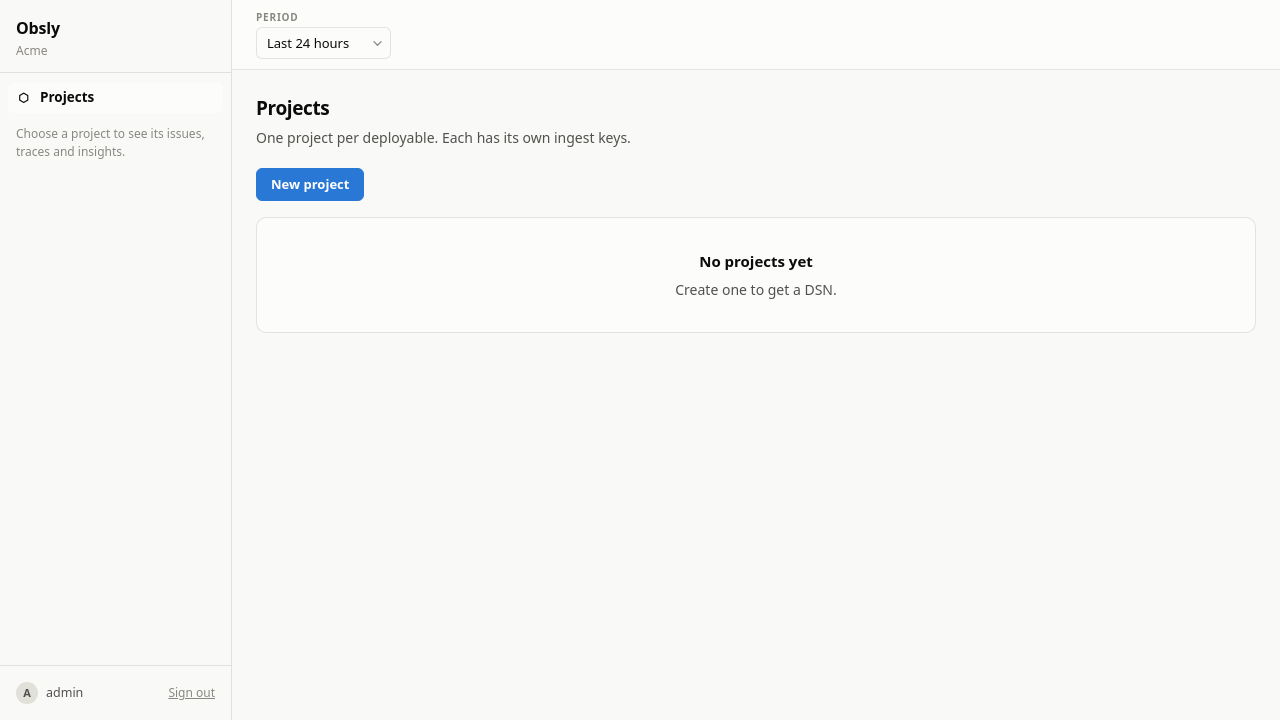
Projects page › derives a slug from the project name
Click the button "New project" at (310, 184), box [256,168,364,201]
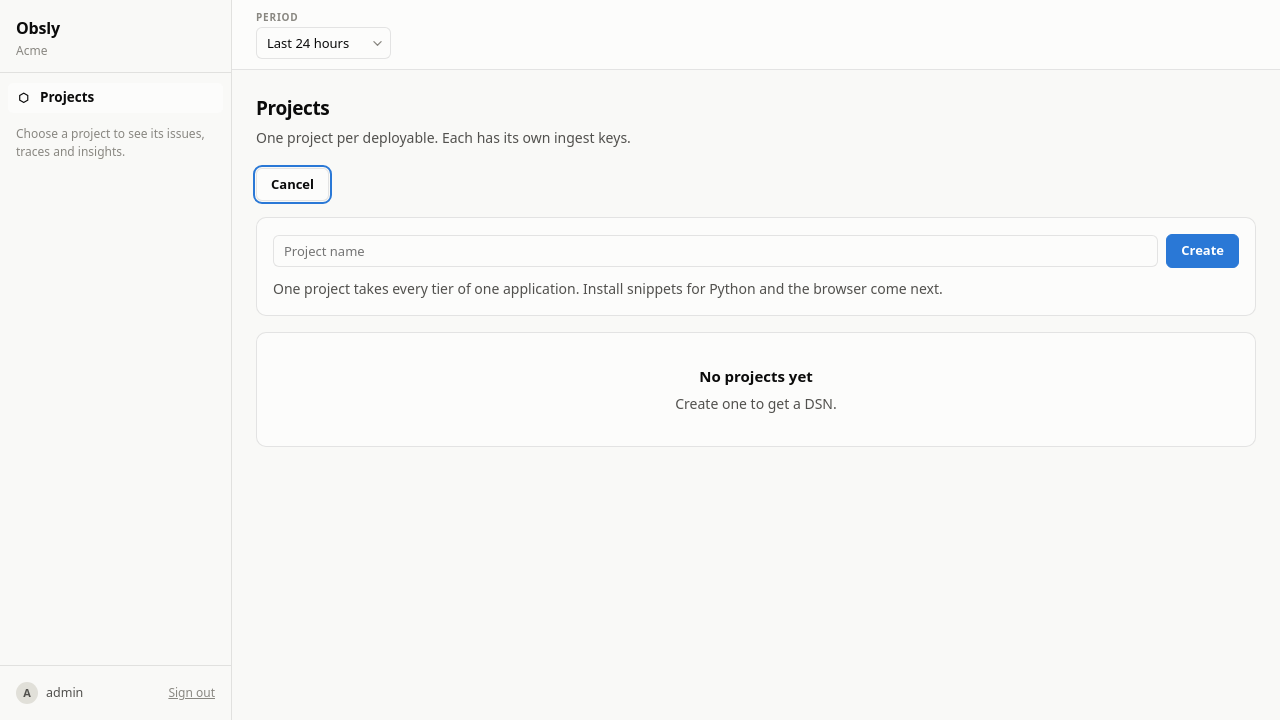
Type "Checkout API!!" into the field labelled "Project name" at (716, 251), box [273,235,1158,267]
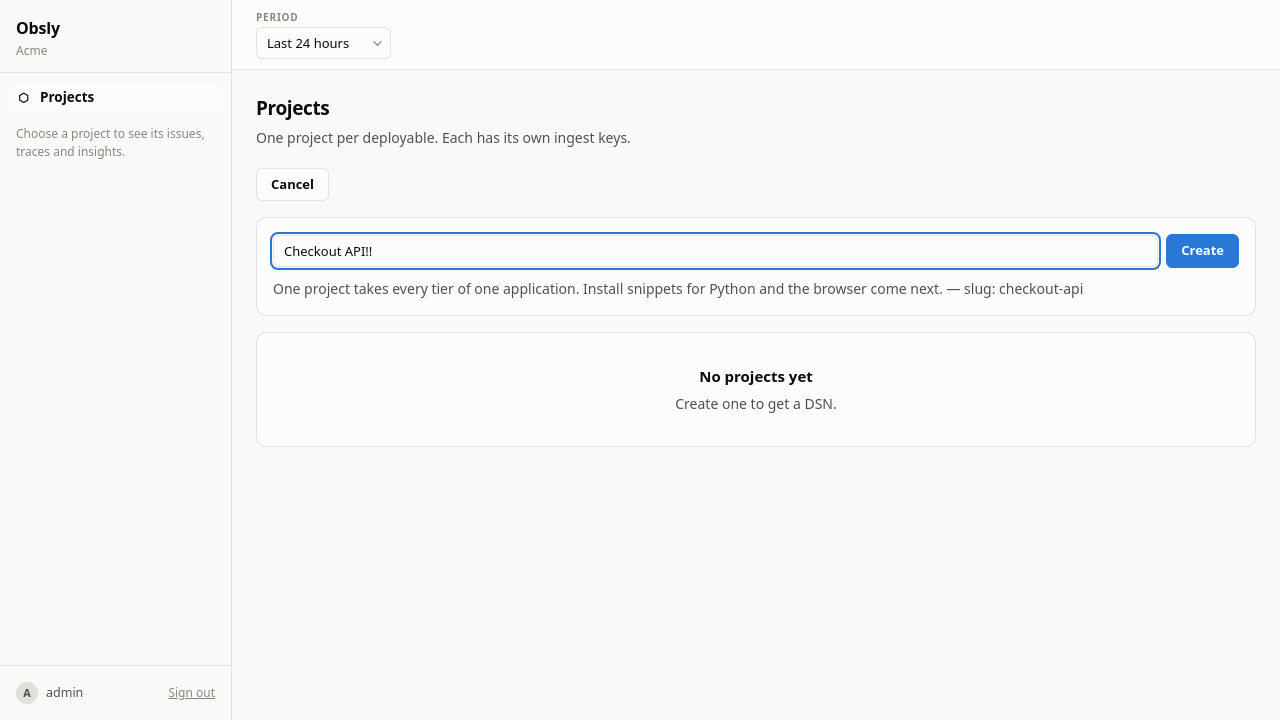
expect the text "slug: checkout-api" is shown: met, box [943,279,1083,298]
